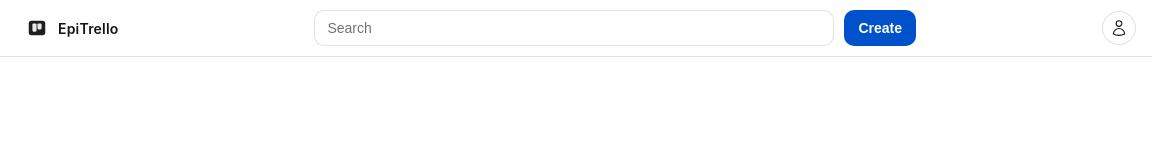
Test: components/TopBar › clicking inside wrapper does not close menu
Click the button named "profile" at x=1119, y=28, box x1=1102 y1=11 x2=1136 y2=45
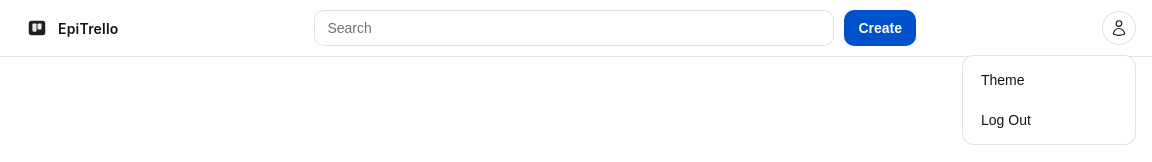
Check: the button "Theme" is shown, box x1=969 y1=62 x2=1129 y2=98
